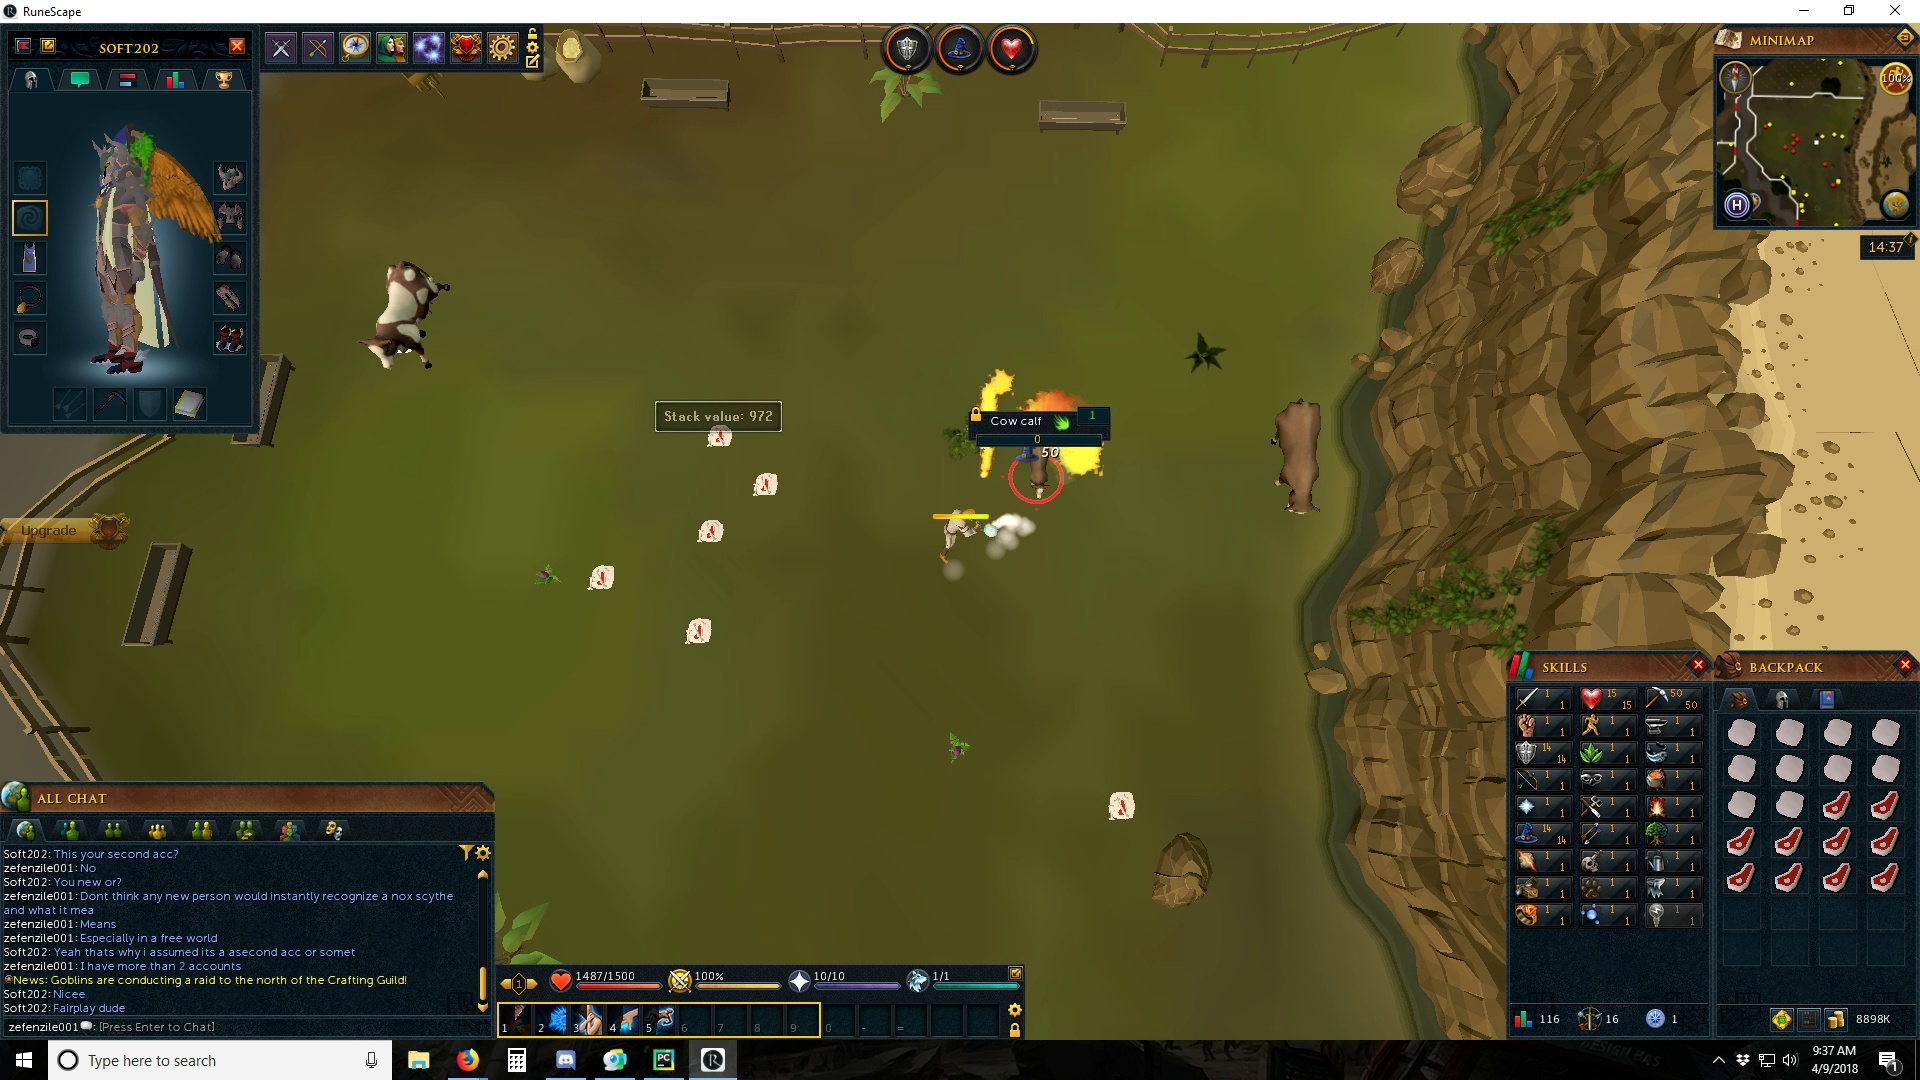calf: (1027, 447, 1052, 498)
cow: (357, 261, 448, 375), (1269, 397, 1323, 517)
cow_drop: (1102, 789, 1137, 823), (702, 422, 738, 452), (690, 518, 731, 545), (684, 617, 715, 649), (749, 469, 781, 500), (585, 564, 618, 593)
